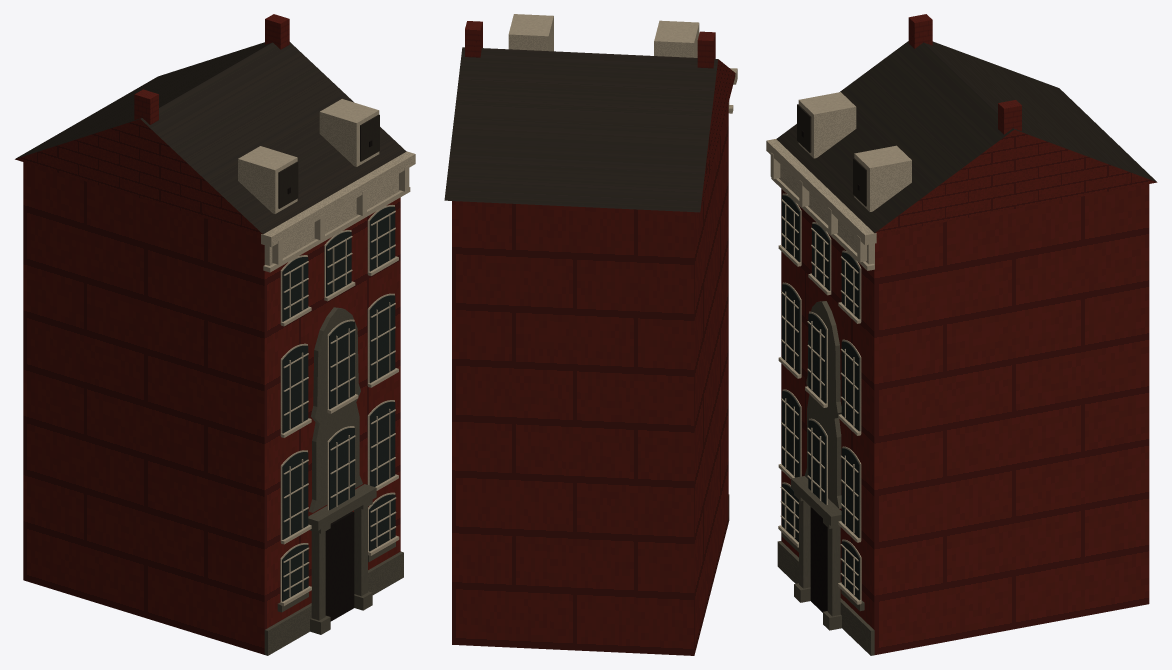
The picture shows the model from 3 angles, left to right: view 1: azimuth 30°, elevation 25°; view 2: azimuth 150°, elevation 25°; view 3: azimuth 270°, elevation 25°; orthographic projection. The views are drawn at different scales.
Visible parts, largest first — view 1: koopmanshuis-nieuwehaven59-0, koopmanshuis-nieuwehaven59-1, koopmanshuis-nieuwehaven59-2, koopmanshuis-nieuwehaven59-4, koopmanshuis-nieuwehaven59-3, koopmanshuis-nieuwehaven59-5; view 2: koopmanshuis-nieuwehaven59-0, koopmanshuis-nieuwehaven59-1, koopmanshuis-nieuwehaven59-2; view 3: koopmanshuis-nieuwehaven59-0, koopmanshuis-nieuwehaven59-1, koopmanshuis-nieuwehaven59-2, koopmanshuis-nieuwehaven59-4, koopmanshuis-nieuwehaven59-3, koopmanshuis-nieuwehaven59-5.
Boxes of the visible parts, box(x1,y1,x2,y2) form: koopmanshuis-nieuwehaven59-0: box(15, 14, 400, 654); koopmanshuis-nieuwehaven59-1: box(15, 42, 406, 234); koopmanshuis-nieuwehaven59-2: box(238, 99, 415, 606); koopmanshuis-nieuwehaven59-4: box(282, 206, 395, 601); koopmanshuis-nieuwehaven59-3: box(264, 307, 403, 655); koopmanshuis-nieuwehaven59-5: box(287, 140, 372, 621); koopmanshuis-nieuwehaven59-0: box(452, 21, 735, 655); koopmanshuis-nieuwehaven59-1: box(444, 47, 718, 212); koopmanshuis-nieuwehaven59-2: box(508, 14, 737, 113); koopmanshuis-nieuwehaven59-0: box(781, 14, 1156, 654); koopmanshuis-nieuwehaven59-1: box(776, 41, 1156, 232); koopmanshuis-nieuwehaven59-2: box(766, 92, 911, 604); koopmanshuis-nieuwehaven59-4: box(782, 195, 859, 600); koopmanshuis-nieuwehaven59-3: box(777, 301, 874, 655); koopmanshuis-nieuwehaven59-5: box(801, 130, 860, 612).
Size of the model in its own units: 13.89 by 22.75 by 15.41.
6 materials, 6 textured.
